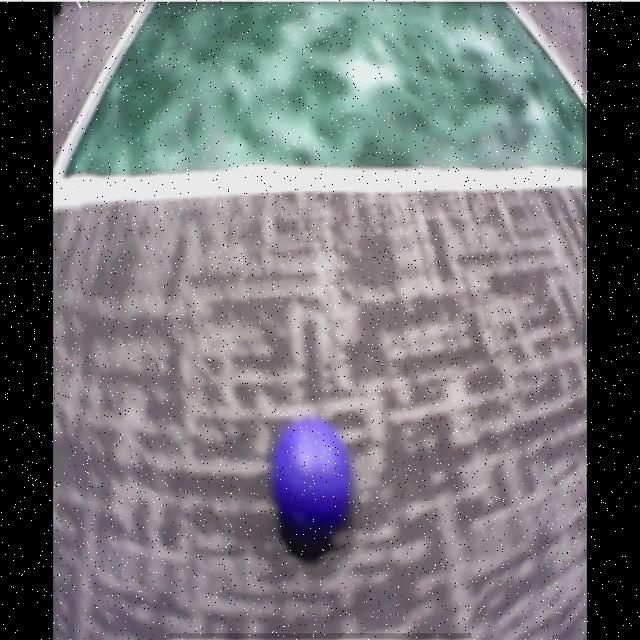ball: (272, 420, 352, 542)
